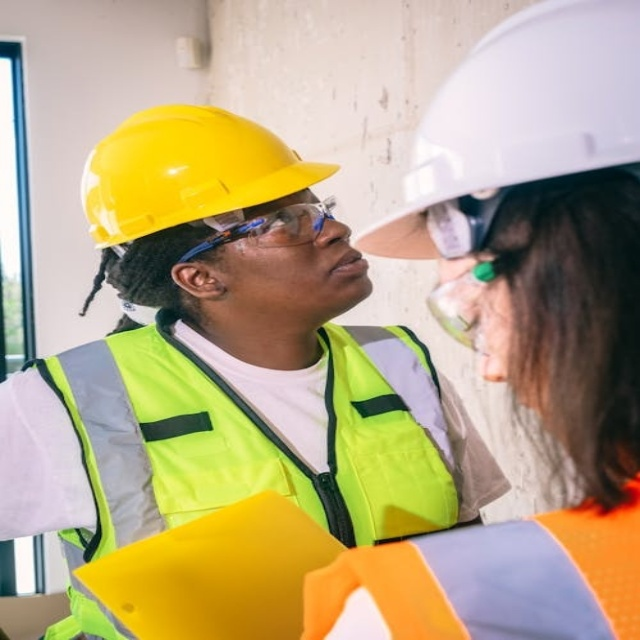Gafas: (429, 225, 550, 357), (172, 186, 348, 266)
Sin_mascara: (301, 246, 371, 303)
